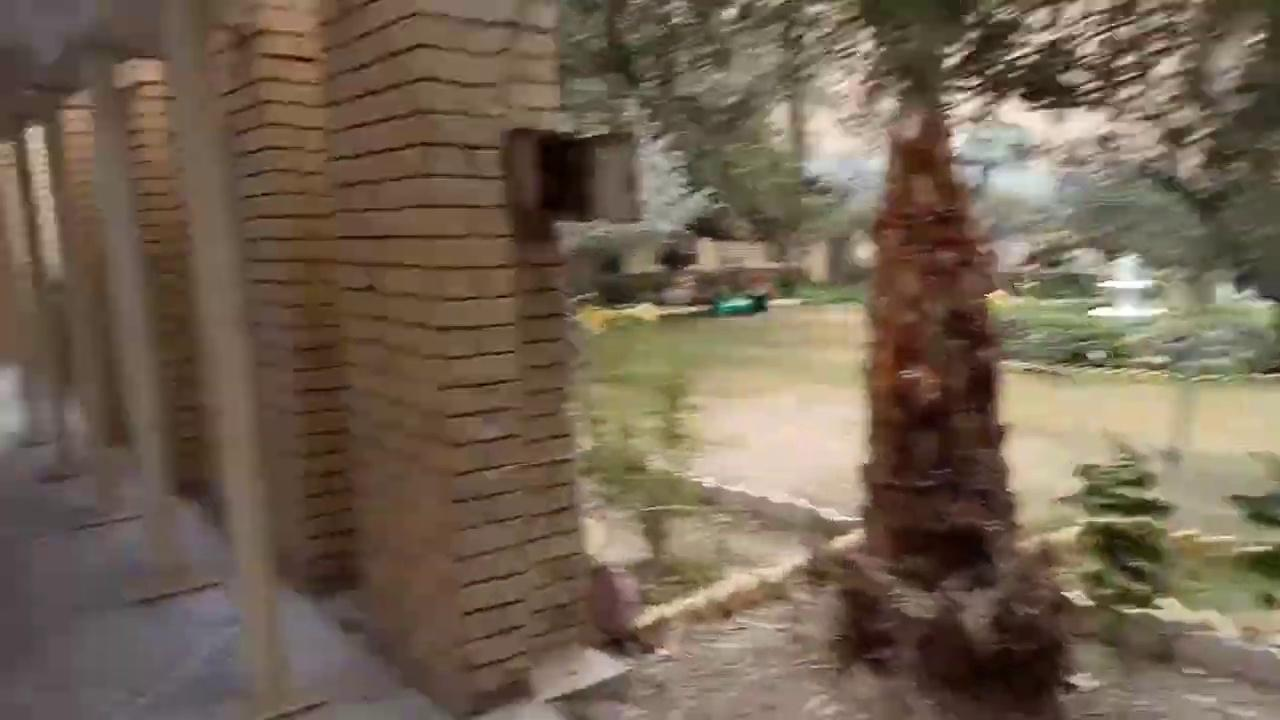fountain: (1085, 251, 1169, 321)
tree: (554, 1, 1267, 707), (799, 3, 1072, 713), (1057, 437, 1200, 662)
